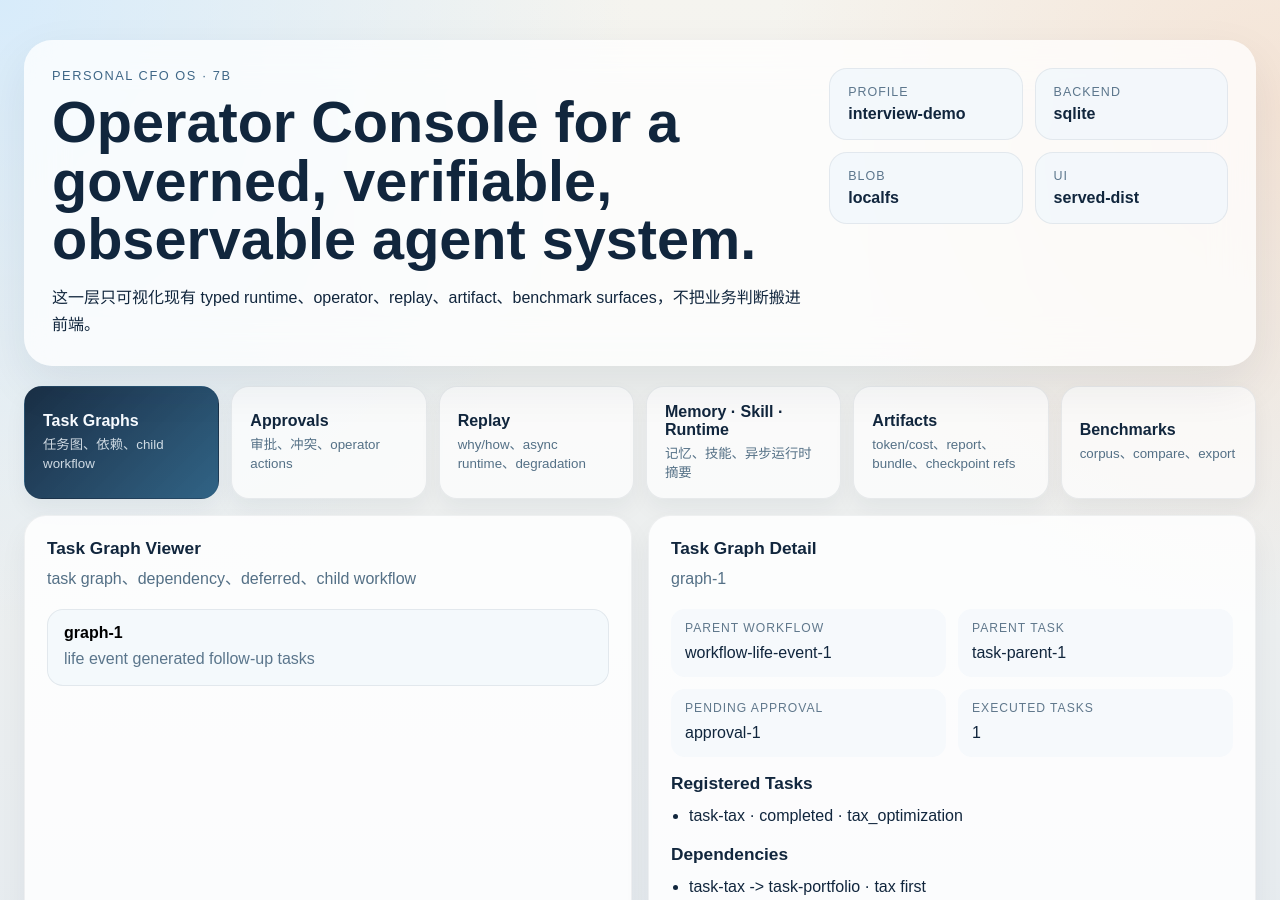
App › shows approval conflicts without bypassing operator service
Expected: the text "approval-1" is shown, [685,724,761,741]
Click the button "Approvals 审批、冲突、operator actions" at (329, 443), box [231,386,427,499]
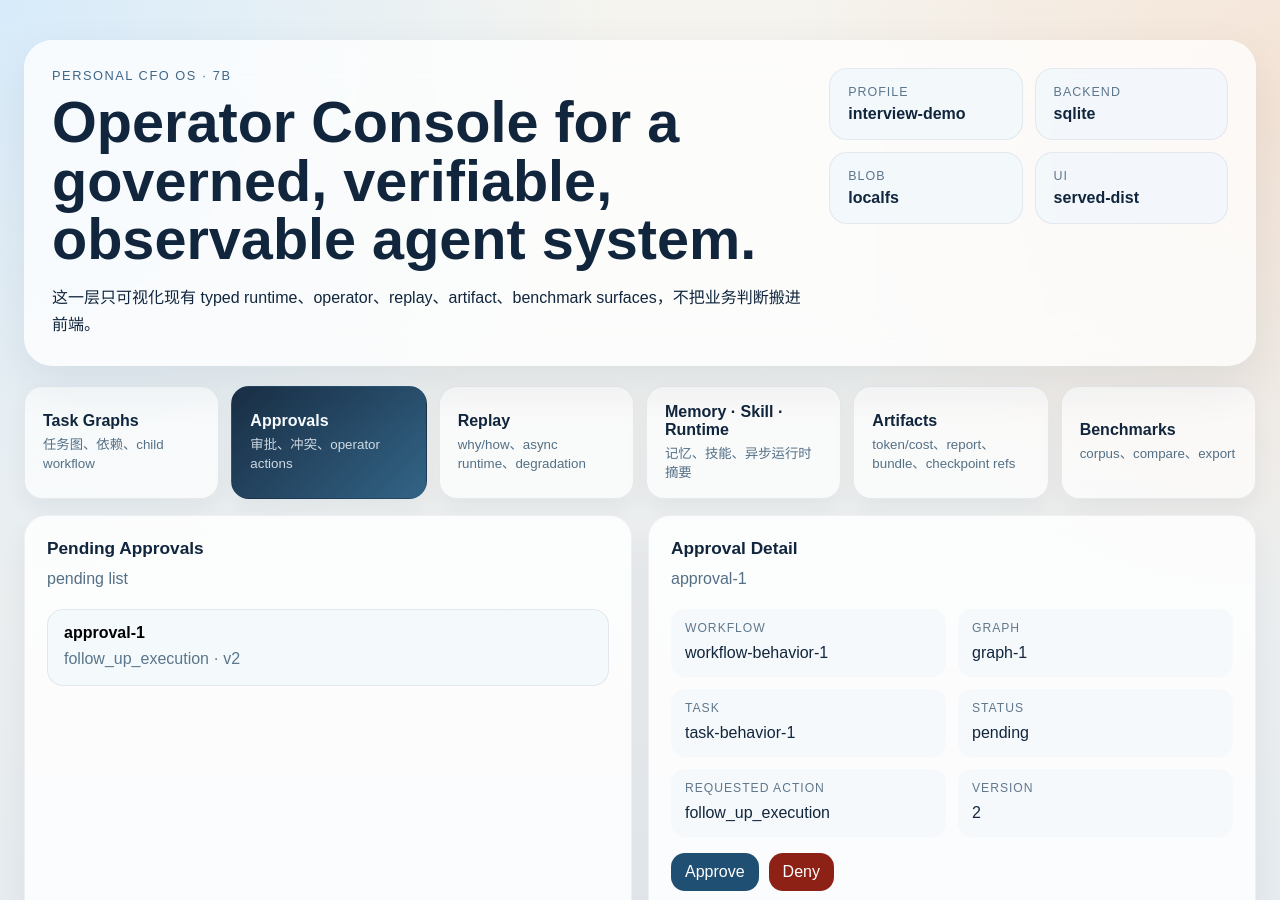
Result: the heading "Approval Detail" is shown at [671,538,798,559]
Click the button "Approve" at (715, 872), box [671,853,759,891]
(page scrolled)
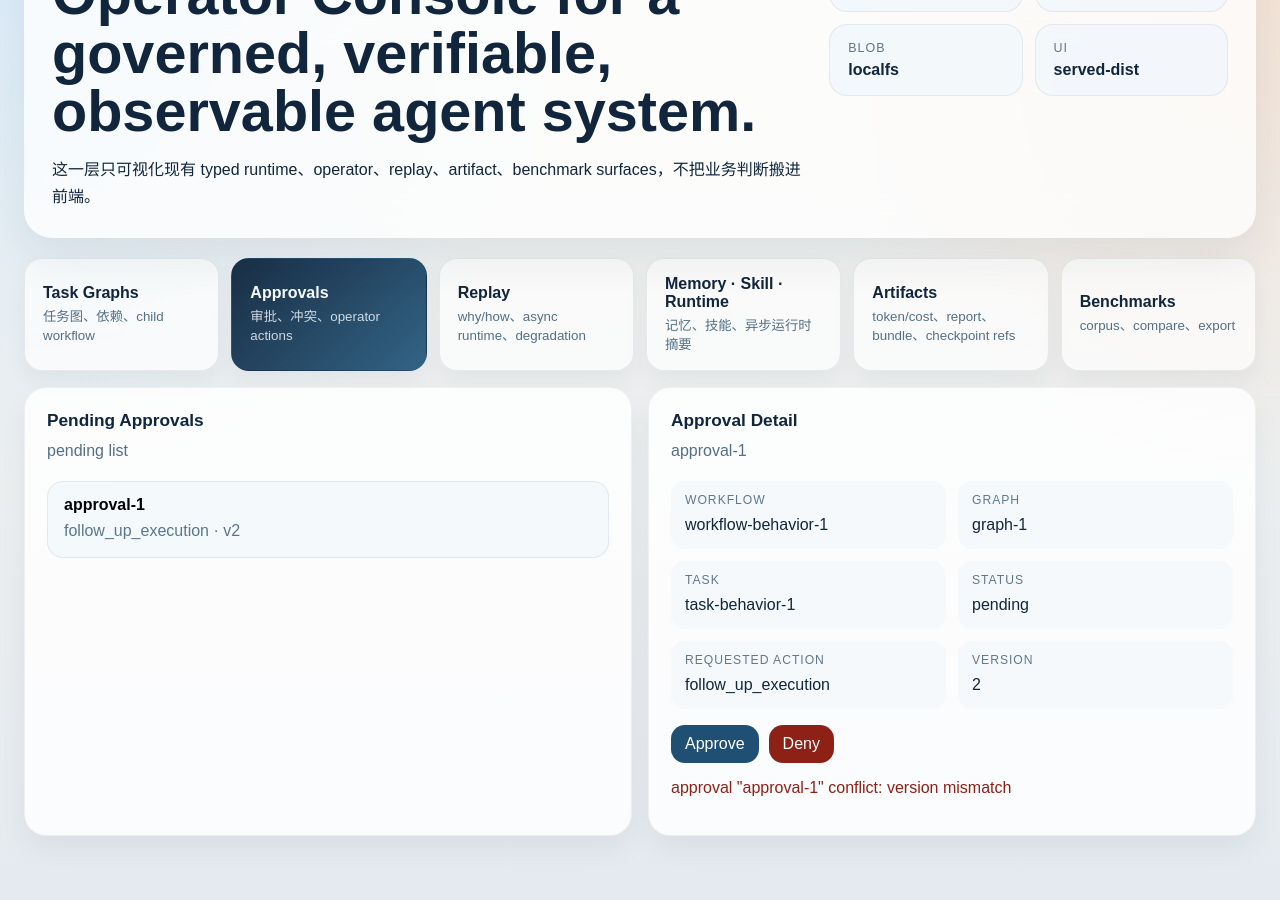
Result: the text "approval \"approval-1\" conflict: version mismatch" is shown at [671,779,1011,796]
